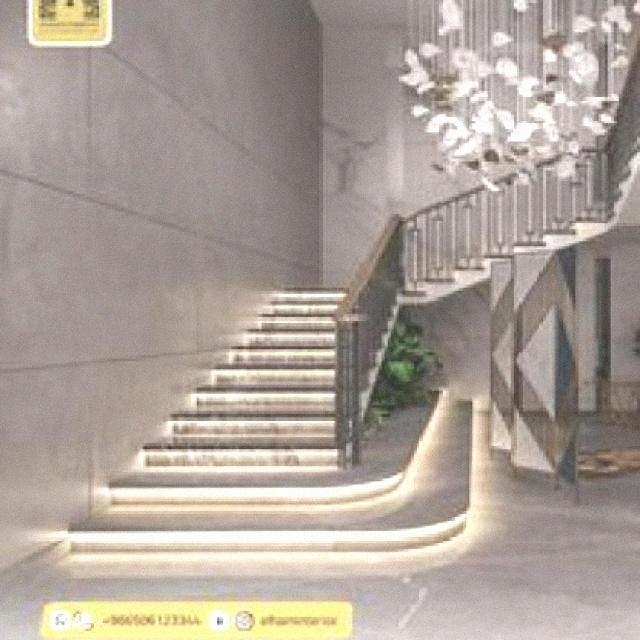stair: (122, 240, 438, 484)
